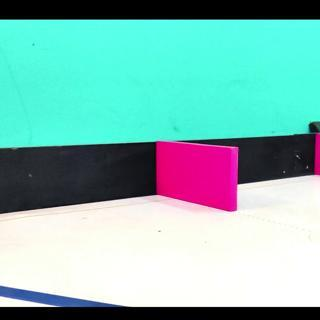xparking: (162, 151, 237, 211), (316, 137, 318, 177)
